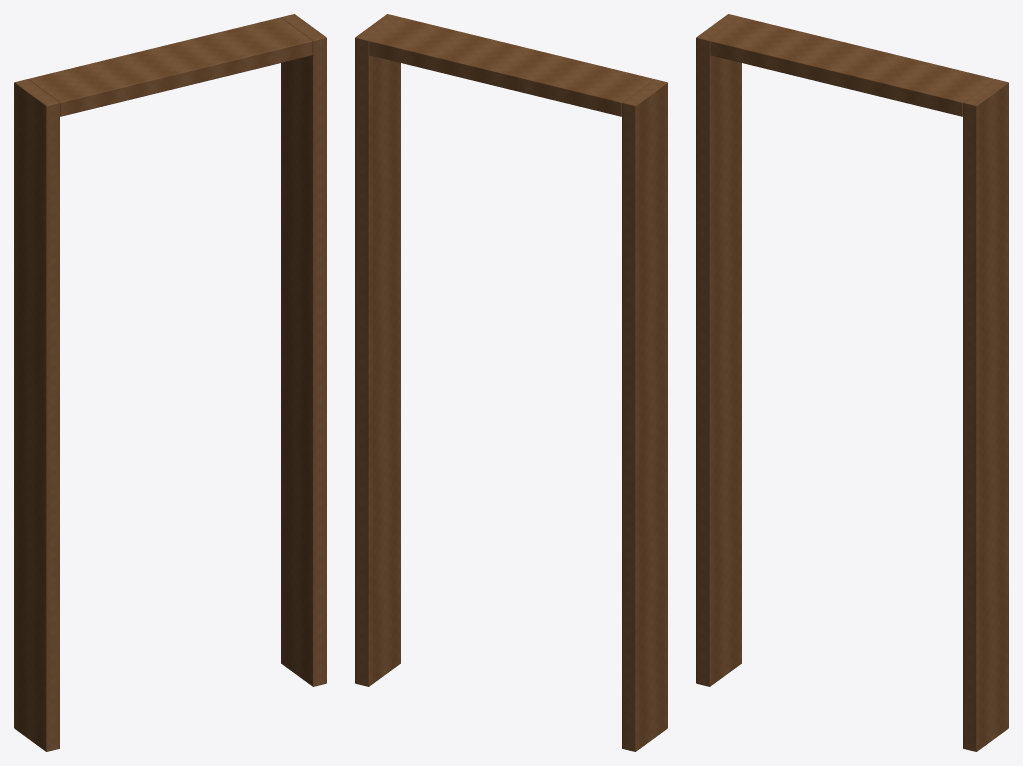
Rendered from MH_Door_Frame_Wood_1x2p2m.fbx.
The picture shows the model from 3 angles, left to right: view 1: azimuth 30°, elevation 25°; view 2: azimuth 150°, elevation 25°; view 3: azimuth 330°, elevation 25°; orthographic projection.
Parts seen in each view (by area): view 1: Body; view 2: Body; view 3: Body.
Boxes of the visible parts, x1,y1,x2,y2 form: Body: (14,14,326,751); Body: (355,14,667,751); Body: (696,14,1008,751).
Size of the model in its own units: 1 by 2.2 by 0.2.
